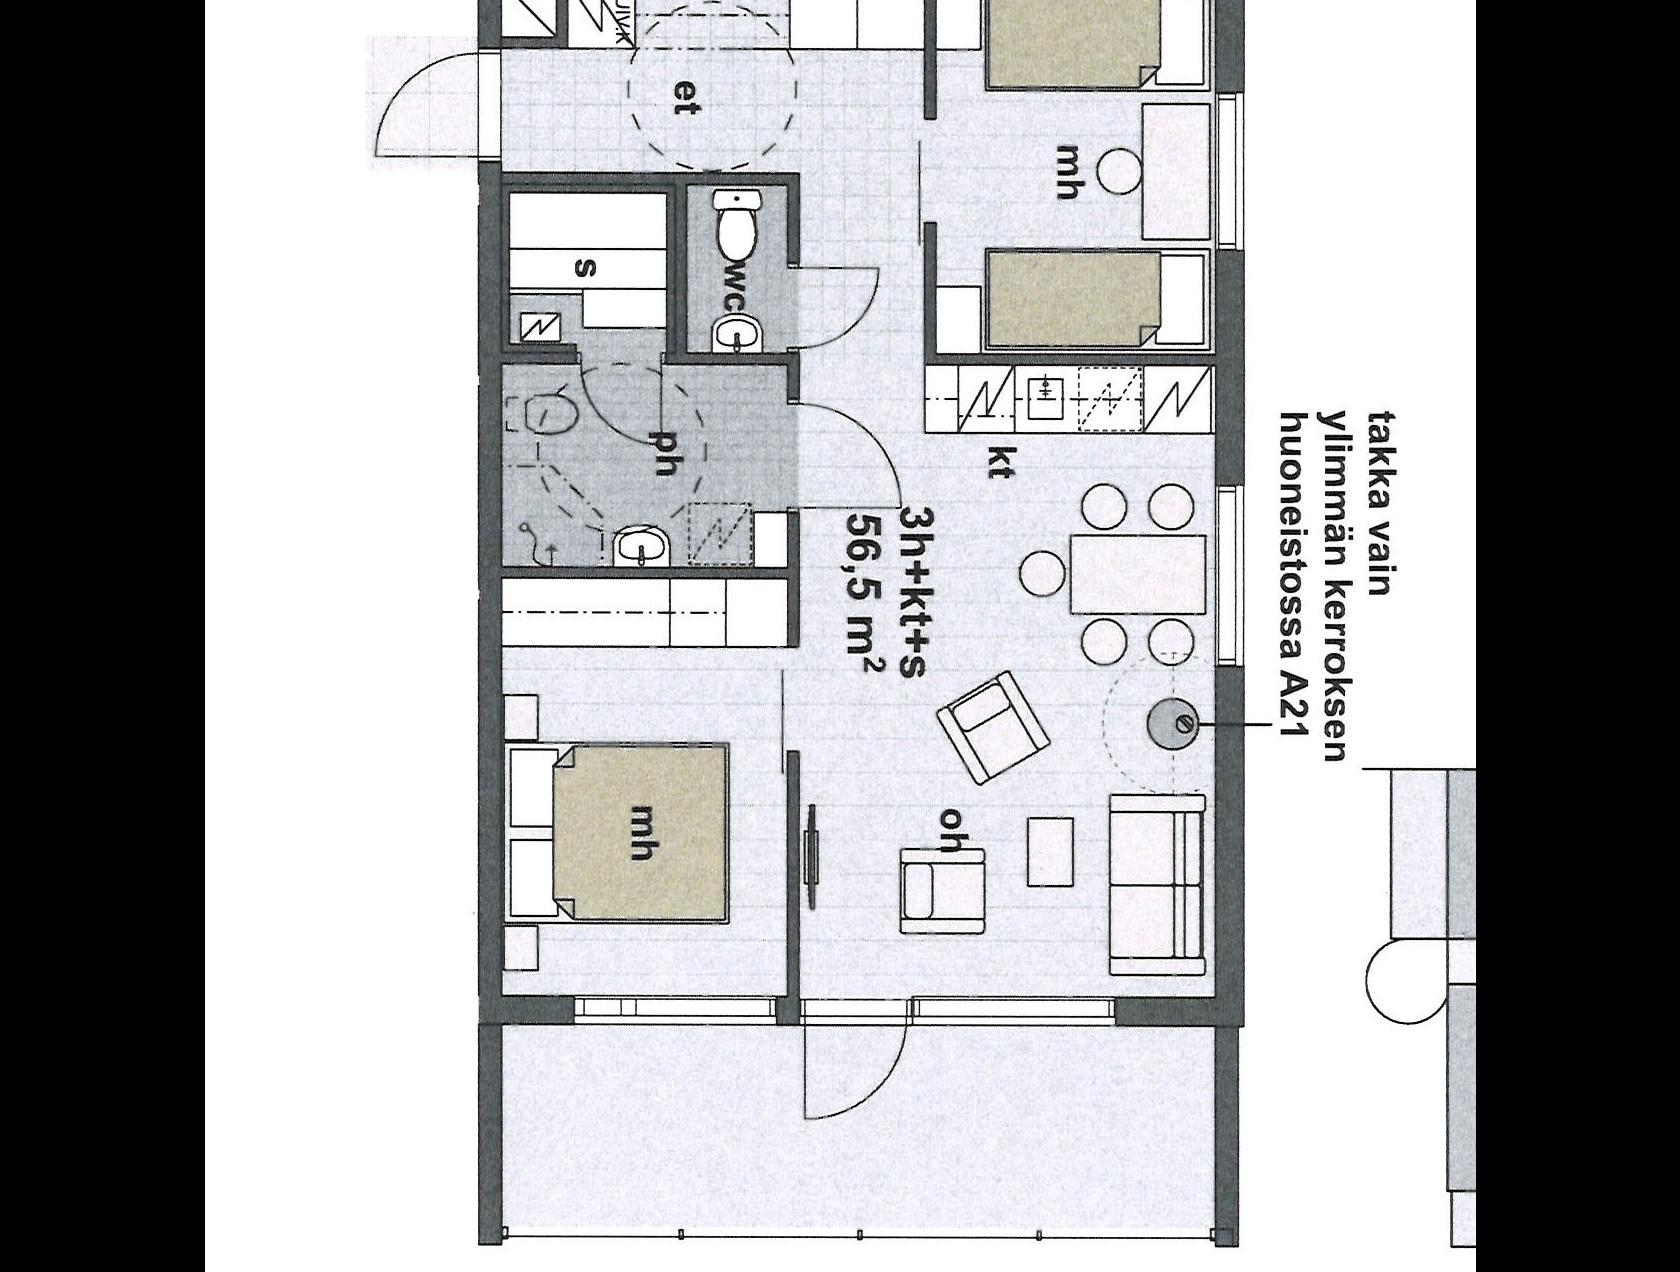bathroom: (499, 362, 789, 568), (676, 184, 795, 359)
door: (792, 986, 913, 1133), (369, 45, 506, 167), (777, 398, 904, 517), (781, 259, 880, 357)
perimeter: (479, 0, 1245, 1027)
window: (1202, 472, 1250, 680), (557, 994, 783, 1037), (900, 990, 1126, 1031), (1218, 79, 1250, 265)
